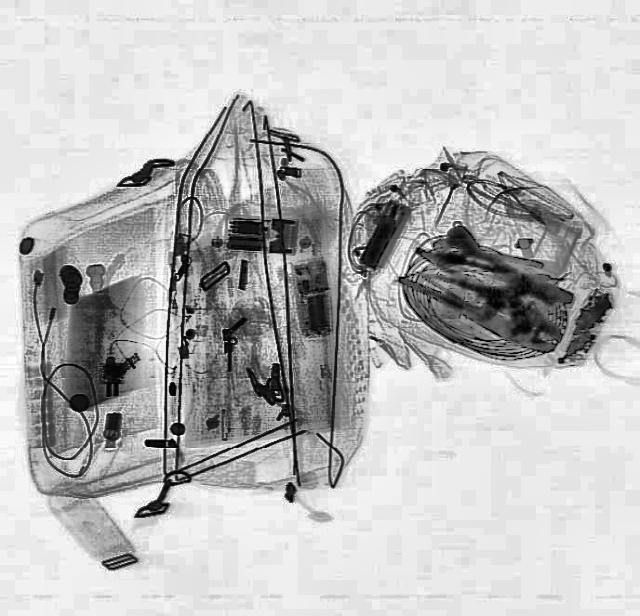Pliers: (392, 244, 572, 360)
